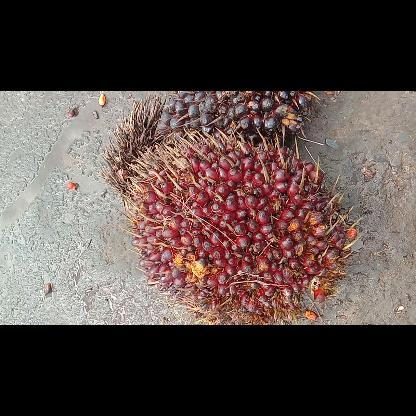Janjang kosong: (98, 94, 168, 196)
TBS masak: (118, 126, 362, 324)
TBS mentah: (156, 91, 320, 145)
